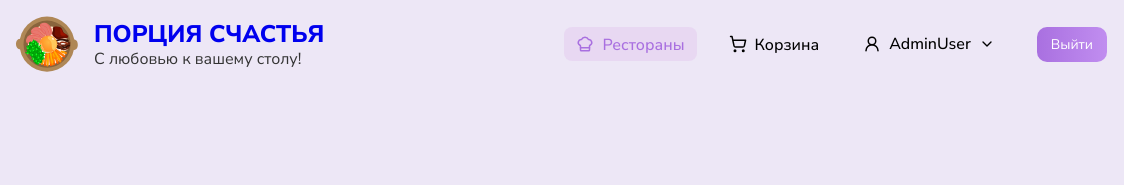
Header Component › отображает админ-меню для администратора
Click the text "AdminUser": [930, 44] box [889,36,971,52]
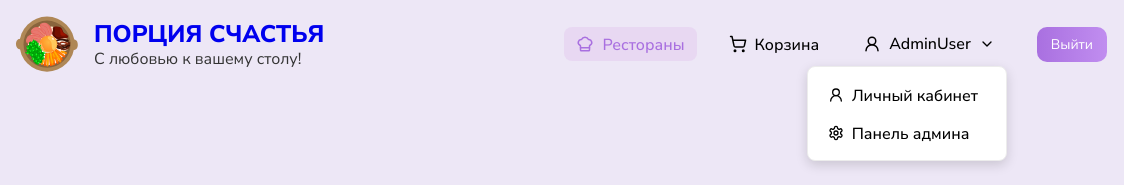
Expected: the text "Панель админа" is shown, [852,126,969,142]
